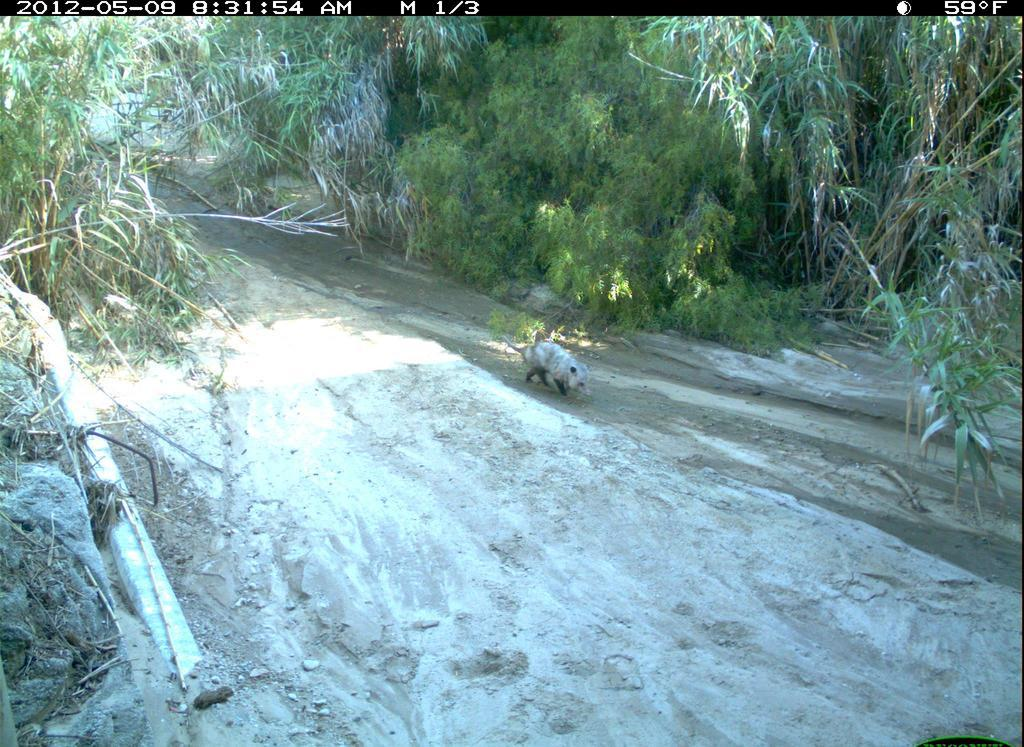opossum: (993, 665, 1024, 747)
